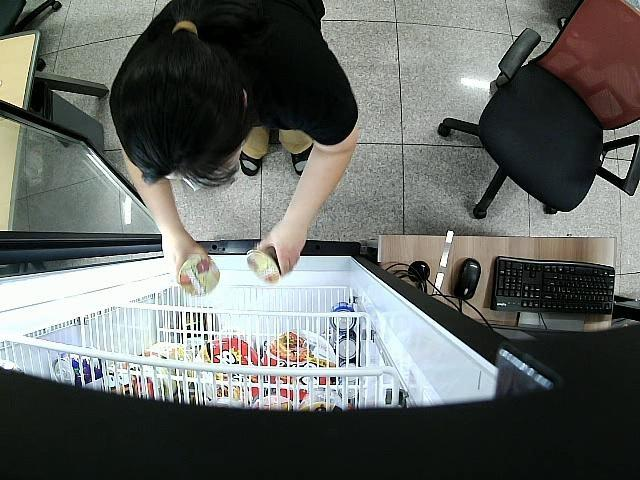04_chapagetti_S: (177, 254, 221, 297), (247, 244, 283, 284)
